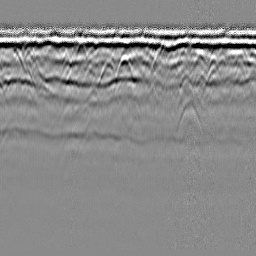cavity: (115, 52, 141, 86)
